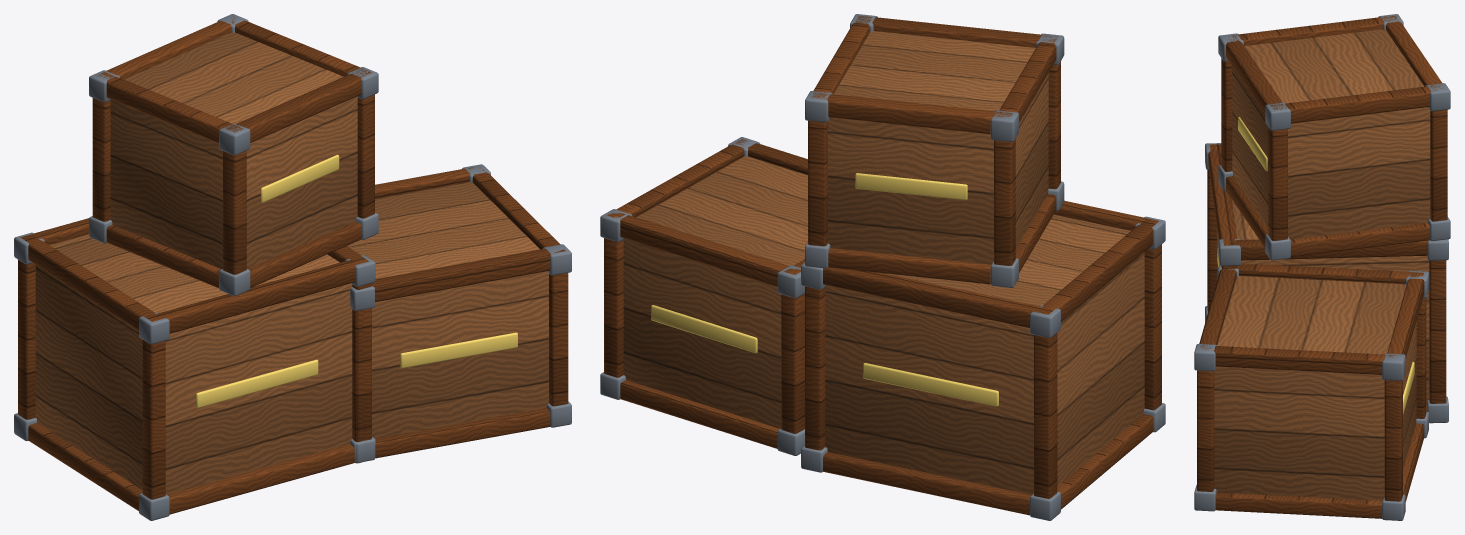
Rendered from crate_stack.glb.
3 views of the same model, side by side, from view 1: azimuth 30°, elevation 25°; view 2: azimuth 150°, elevation 25°; view 3: azimuth 270°, elevation 25° (orthographic). The views are drawn at different scales.
Visible parts, largest first — view 1: CrateBottomL_Core, CrateTop_Core, CrateBottomR_Core, CrateBottomL_RailX1_1.01, CrateBottomR_RailX1_0.88, CrateBottomL_RailX1_0.04, CrateBottomL_Post_-0.60_-0.55, CrateBottomR_RailX1_0.04, CrateBottomL_RailY1_1.01, CrateTop_RailX1_0.82, CrateTop_RailY1_0.82, CrateTop_Post_-0.45_-0.44 (+22 smaller); view 2: CrateBottomL_Core, CrateTop_Core, CrateBottomR_Core, CrateBottomL_RailX2_1.01, CrateBottomL_RailX2_0.04, CrateBottomR_RailX2_0.88, CrateTop_RailX2_0.82, CrateBottomL_Post_-0.60_0.55, CrateBottomR_RailX2_0.04, CrateBottomL_Post_0.60_0.55, CrateBottomR_Post_-0.52_0.50, CrateTop_RailX2_0.04 (+23 smaller); view 3: CrateBottomR_Core, CrateTop_Core, CrateBottomR_RailY2_0.88, CrateBottomR_RailY2_0.04, CrateTop_RailY2_0.82, CrateBottomL_Core, CrateBottomL_Post_0.60_0.55, CrateTop_RailY2_0.04, CrateBottomR_Post_0.52_0.50, CrateTop_Post_0.45_-0.44, CrateBottomR_RailY1_0.88, CrateBottomR_Post_0.52_-0.50 (+26 smaller).
Boxes of the visible parts, x1,y1,x2,y2 form: CrateBottomL_Core: (35,234,352,494); CrateTop_Core: (110,32,357,269); CrateBottomR_Core: (347,182,548,438); CrateBottomL_RailX1_1.01: (146,259,369,333); CrateBottomR_RailX1_0.88: (372,248,550,301); CrateBottomL_RailX1_0.04: (167,444,354,514); CrateBottomL_Post_-0.60_-0.55: (142,339,165,499); CrateBottomR_RailX1_0.04: (375,408,550,458); CrateBottomL_RailY1_1.01: (20,234,158,330); CrateTop_RailX1_0.82: (226,70,369,142); CrateTop_RailY1_0.82: (99,72,242,143); CrateTop_Post_-0.45_-0.44: (223,126,246,274); CrateBottomL_Core: (825,214,1144,494); CrateTop_Core: (828,31,1048,264); CrateBottomR_Core: (623,156,807,428); CrateBottomL_RailX2_1.01: (823,267,1054,327); CrateBottomL_RailX2_0.04: (823,452,1031,515); CrateBottomR_RailX2_0.88: (620,215,789,286); CrateTop_RailX2_0.82: (811,93,1012,134); CrateBottomL_Post_-0.60_0.55: (1034,333,1057,498); CrateBottomR_RailX2_0.04: (620,380,779,448); CrateBottomL_Post_0.60_0.55: (805,286,825,450); CrateBottomR_Post_-0.52_0.50: (781,268,804,433); CrateTop_RailX2_0.04: (828,248,990,284); CrateBottomR_Core: (1214,276,1416,500); CrateTop_Core: (1232,29,1430,239); CrateBottomR_RailY2_0.88: (1214,346,1385,374); CrateBottomR_RailY2_0.04: (1215,492,1382,518); CrateTop_RailY2_0.82: (1273,86,1430,123); CrateBottomL_Core: (1217,199,1429,403); CrateBottomL_Post_0.60_0.55: (1429,260,1446,403); CrateTop_RailY2_0.04: (1290,223,1429,256); CrateBottomR_Post_0.52_0.50: (1384,355,1402,501); CrateTop_Post_0.45_-0.44: (1268,104,1287,240); CrateBottomR_RailY1_0.88: (1238,264,1411,284); CrateBottomR_Post_0.52_-0.50: (1197,345,1214,491).
Size of the model in its own units: 2.52 by 1.91 by 1.34.
4 materials, 2 textured.
